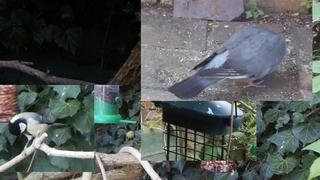great tit: (8, 112, 68, 157)
wood pigeon: (168, 27, 286, 100)
